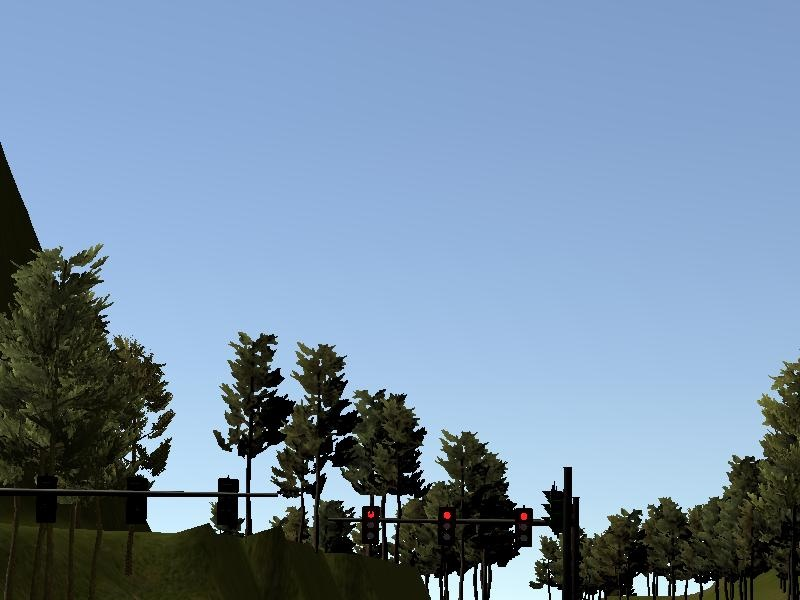traffic_light_red: (347, 501, 556, 550)
